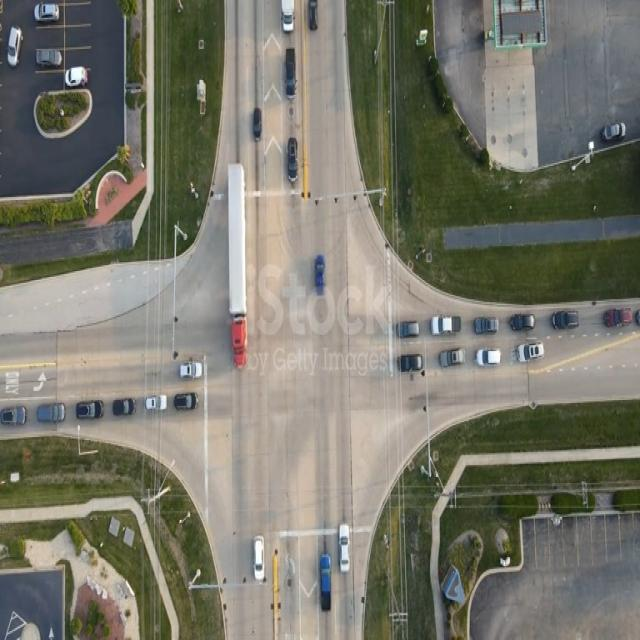car: (319, 554, 332, 609), (340, 527, 352, 575), (284, 50, 295, 100), (32, 1, 58, 22), (0, 408, 26, 429), (38, 404, 65, 424), (7, 27, 20, 68), (252, 537, 264, 581), (518, 344, 544, 364), (552, 312, 578, 332), (398, 354, 424, 374), (281, 0, 295, 33), (114, 400, 138, 419), (511, 314, 536, 332), (602, 123, 624, 143), (287, 139, 297, 183), (173, 393, 196, 411), (476, 318, 500, 335), (442, 350, 464, 368), (478, 349, 501, 366), (397, 321, 420, 338), (178, 362, 201, 379), (315, 255, 325, 294), (144, 395, 166, 411), (253, 108, 262, 142)
pickup-truck: (36, 49, 64, 70), (604, 308, 632, 328)
semi-trailer: (231, 160, 253, 368)
